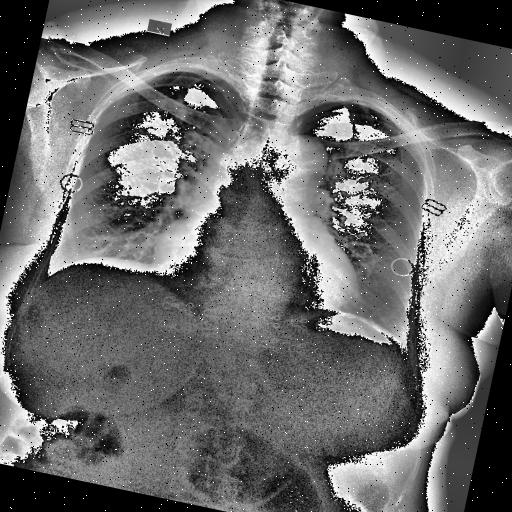0- Aortic enlargement: (255, 130, 330, 206), (262, 128, 330, 180), (273, 130, 332, 186)
3- Cardiomegaly: (140, 226, 367, 344), (145, 214, 368, 316), (147, 232, 368, 314)
